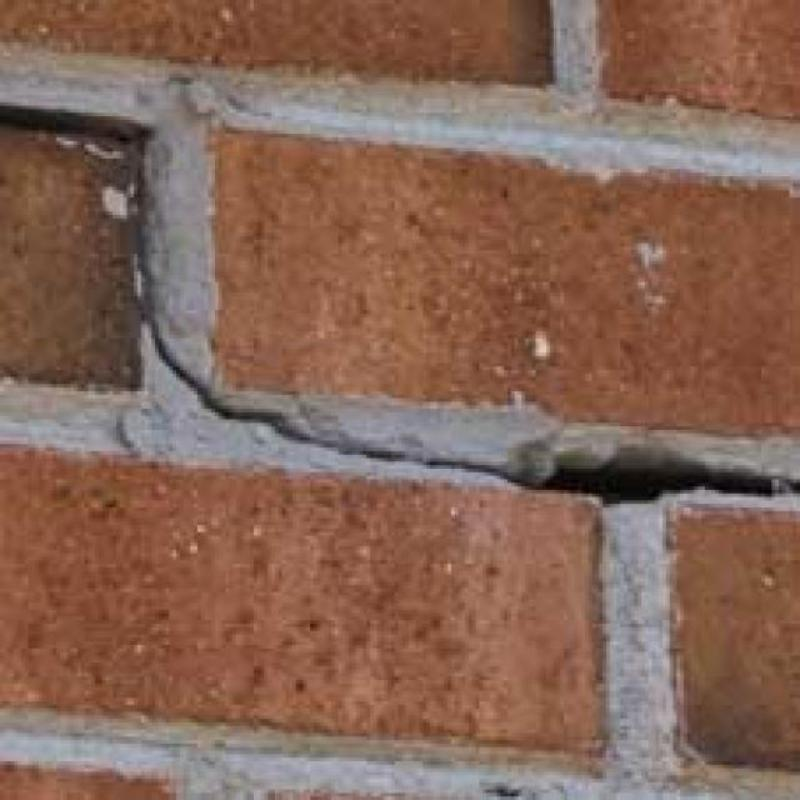crack: (0, 107, 799, 506)
